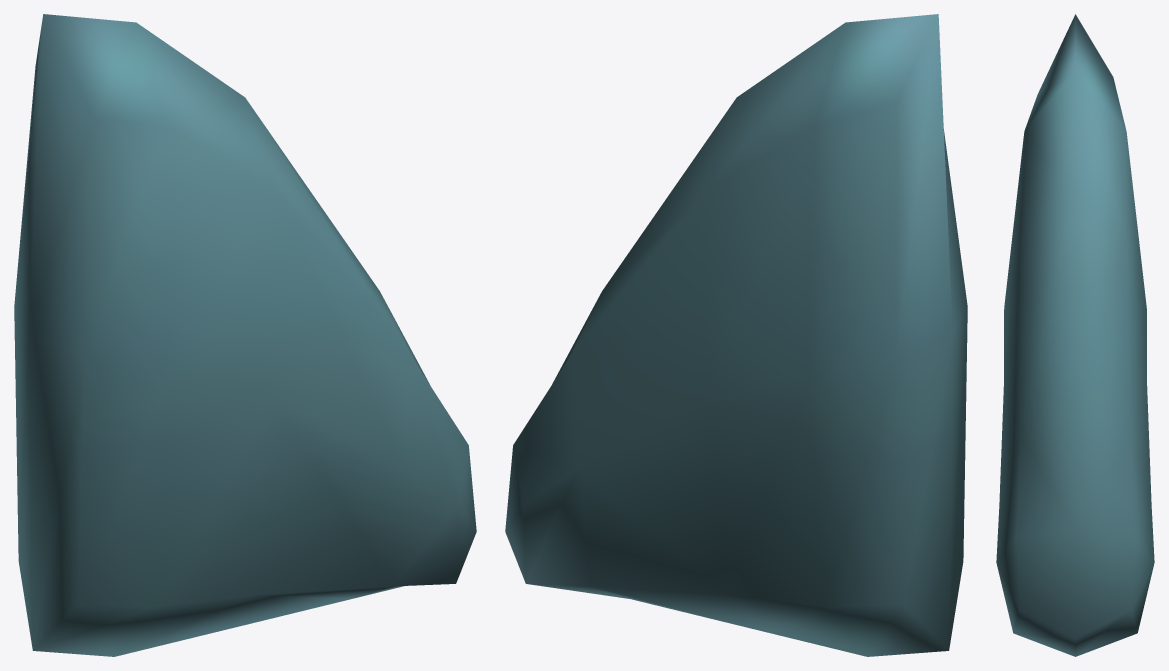
File: shark.fbx
3 views of the same model, side by side, from view 1: azimuth 30°, elevation 25°; view 2: azimuth 150°, elevation 25°; view 3: azimuth 270°, elevation 25° (orthographic). The views are drawn at different scales.
Visible parts, largest first — view 1: shark; view 2: shark; view 3: shark.
Part boxes in pixels (<box>): shark: <box>14,14,476,656</box>; shark: <box>505,14,967,656</box>; shark: <box>996,14,1154,656</box>.
Bounding box in the file's own units: 140 × 204 × 58.2.
